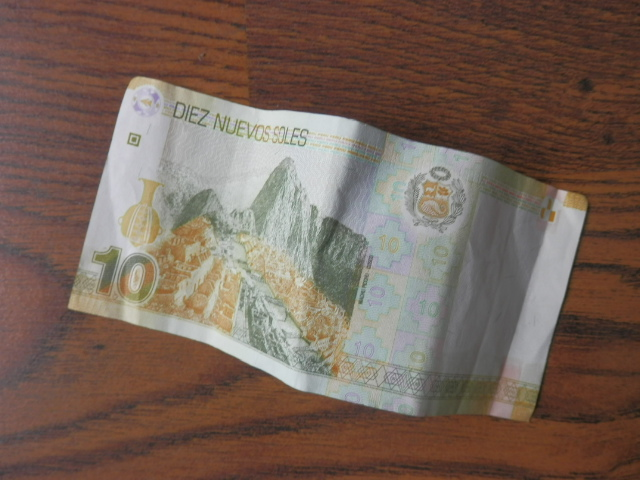B10: (77, 74, 578, 431)
